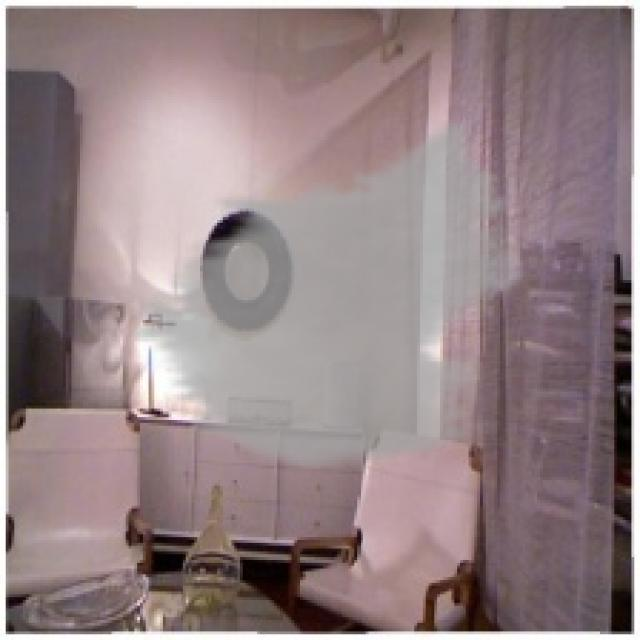Smoke: (120, 117, 540, 474)
